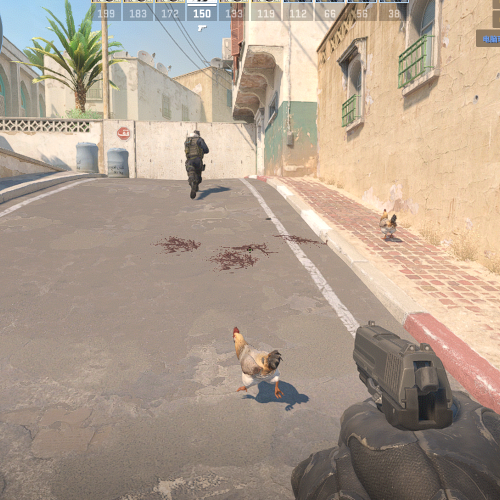chicken: (232, 324, 283, 402), (378, 209, 398, 241)
ct_body: (183, 128, 208, 199)
ct_head: (189, 129, 202, 139)
